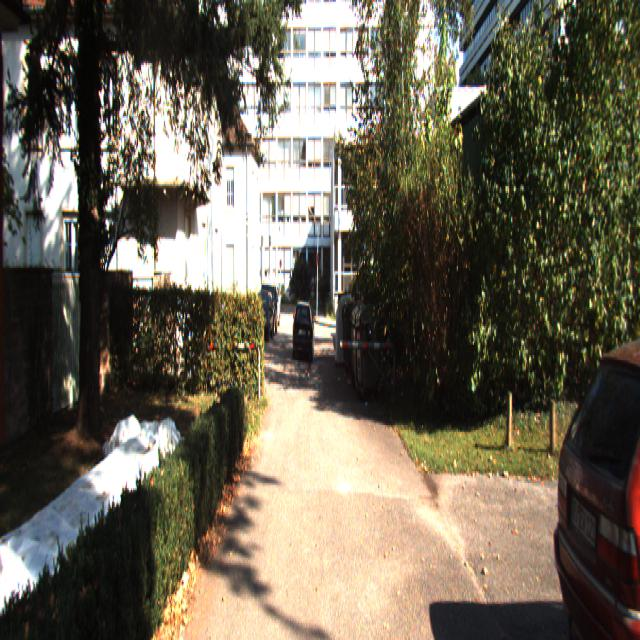Car: (548, 311, 640, 638), (293, 299, 315, 361), (251, 290, 274, 340)
